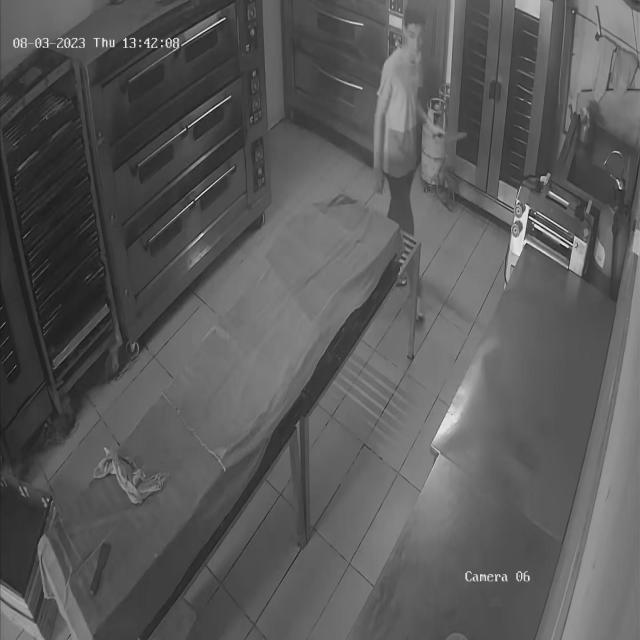Knife: (87, 532, 115, 602), (353, 173, 396, 211)
